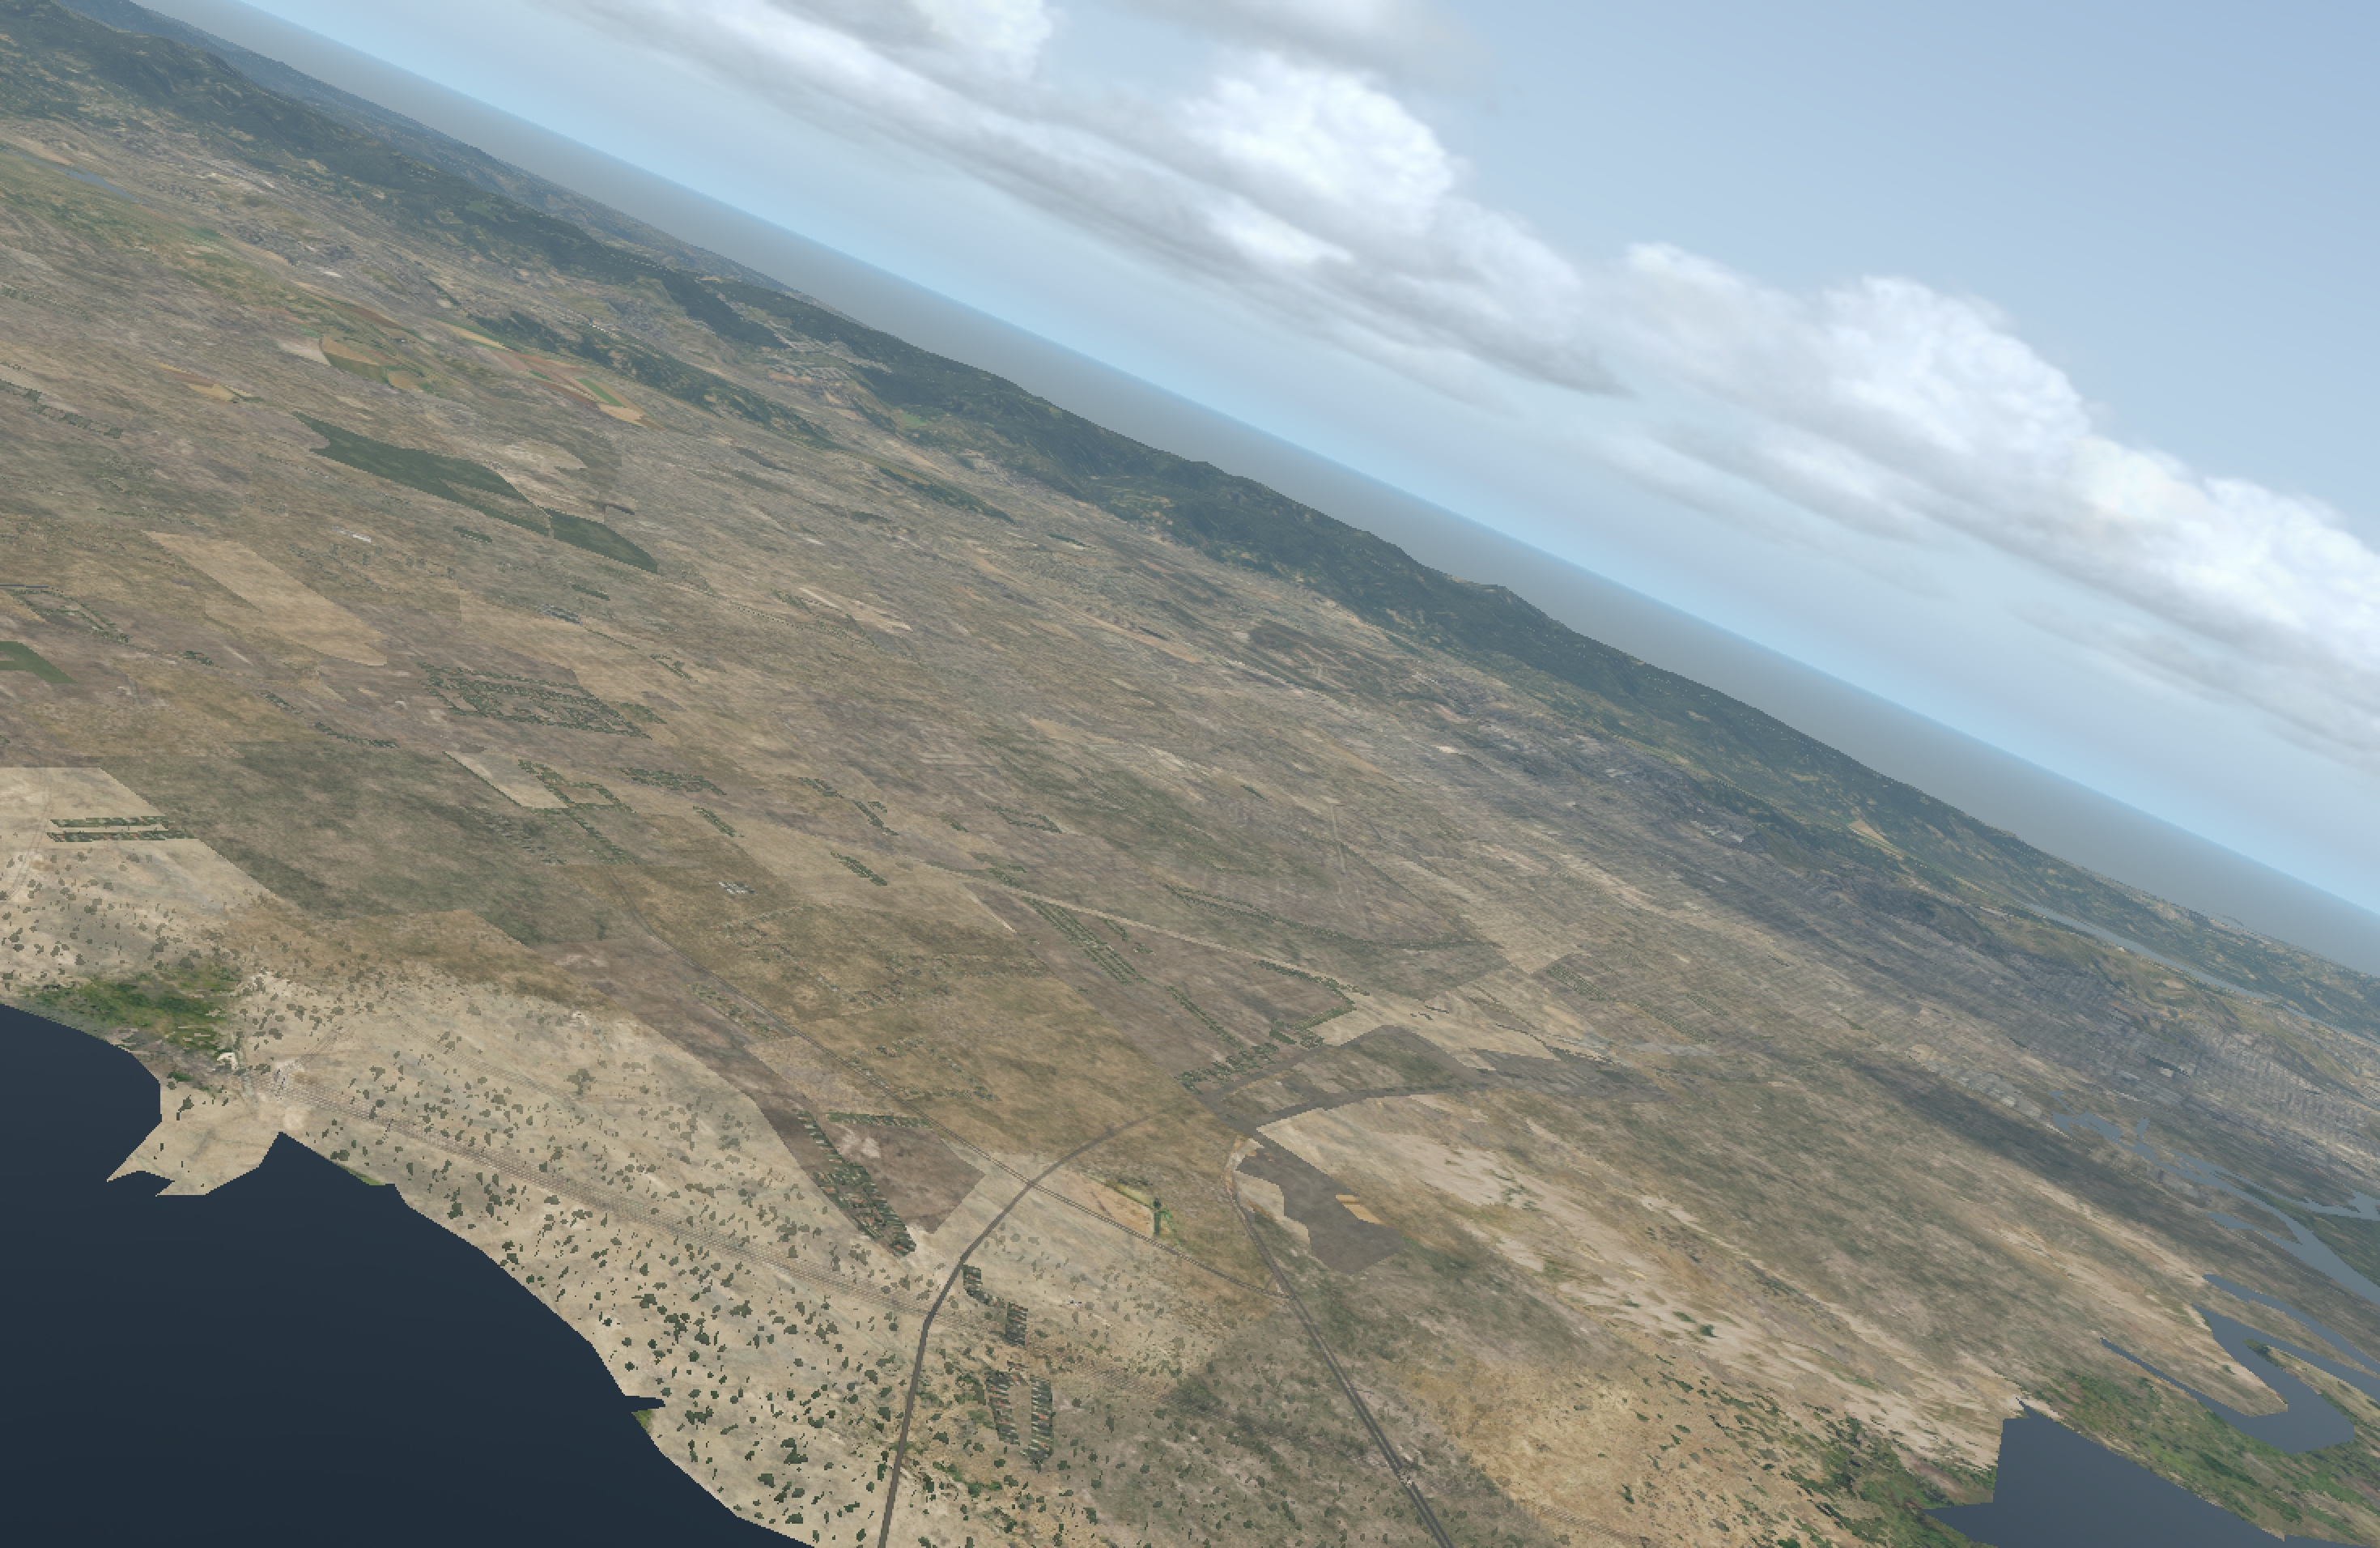aircraft: (1065, 1300, 1081, 1305)
